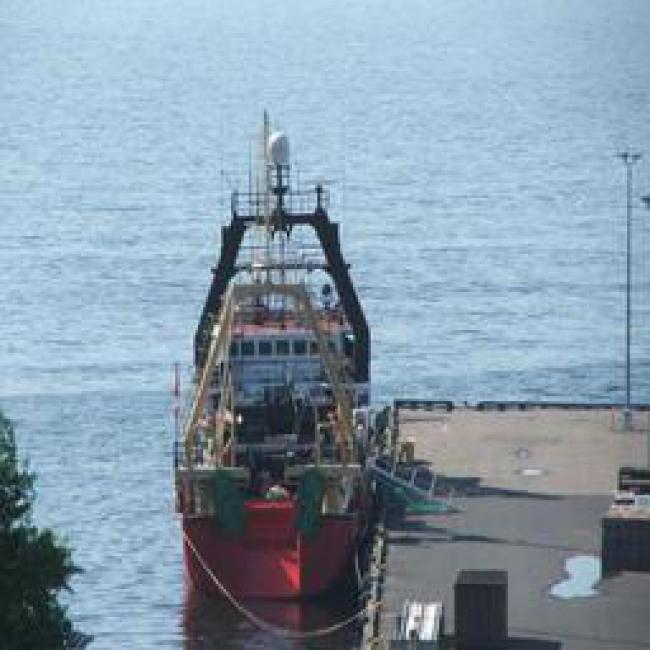Ship: (133, 232, 365, 604)
